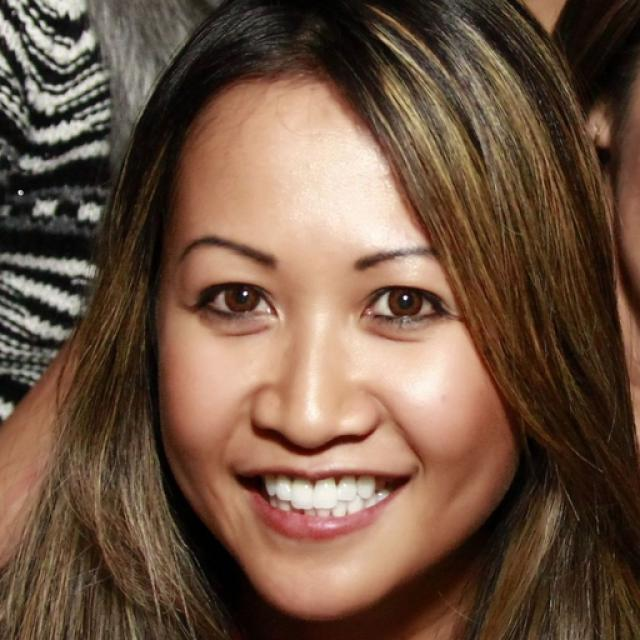happy: (152, 74, 522, 618)
